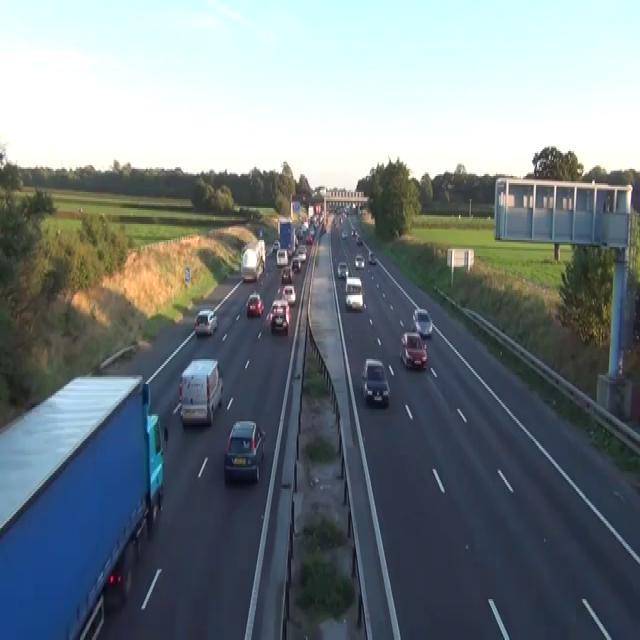Car: (223, 419, 265, 484), (103, 537, 139, 610), (360, 357, 390, 407), (104, 560, 131, 608), (78, 594, 104, 638), (400, 330, 427, 370), (266, 297, 290, 334), (344, 276, 363, 310), (194, 308, 217, 336), (412, 308, 432, 336), (246, 292, 264, 316), (282, 284, 296, 306), (276, 247, 288, 267), (281, 265, 292, 284), (337, 262, 348, 278), (354, 252, 364, 268), (291, 256, 301, 272), (297, 246, 306, 262), (272, 238, 280, 251), (368, 251, 375, 263), (296, 226, 303, 238), (308, 224, 315, 235), (305, 234, 313, 243), (328, 202, 335, 212), (287, 245, 293, 256), (302, 221, 308, 231), (356, 234, 362, 243), (341, 230, 347, 238), (351, 228, 357, 236), (294, 235, 298, 247), (321, 224, 326, 233), (351, 202, 356, 210)
Truck: (0, 372, 164, 638), (178, 357, 223, 427), (240, 238, 265, 281), (277, 219, 296, 256)
